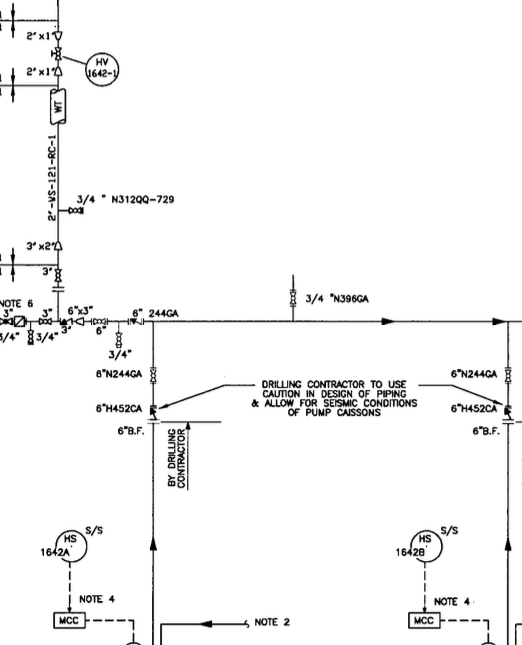Instrument-offset: (394, 527, 446, 564), (42, 526, 90, 565), (83, 48, 127, 86)
